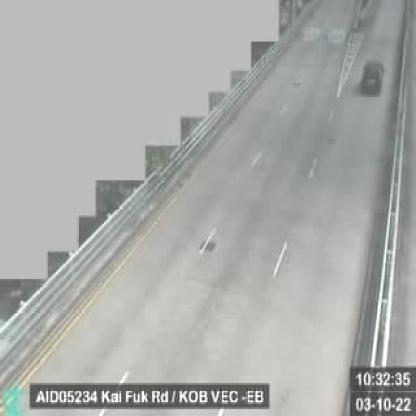Car: (360, 59, 385, 92)
